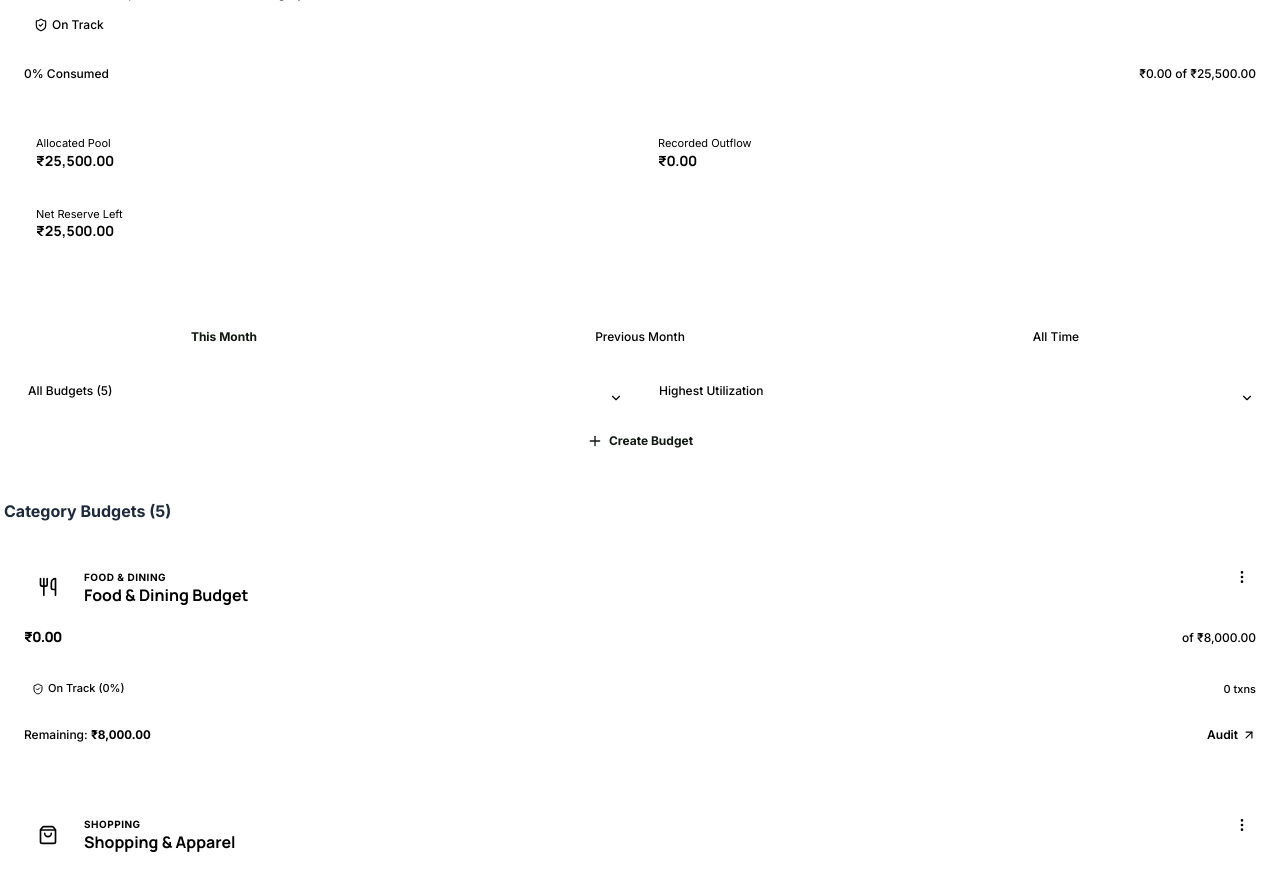
SPENDX Budgets Page & Telemetry › opens Create Budget modal dialog when CTA is clicked
(page scrolled)
Click the button "Create Budget" at (640, 441), box [14, 421, 1266, 461]
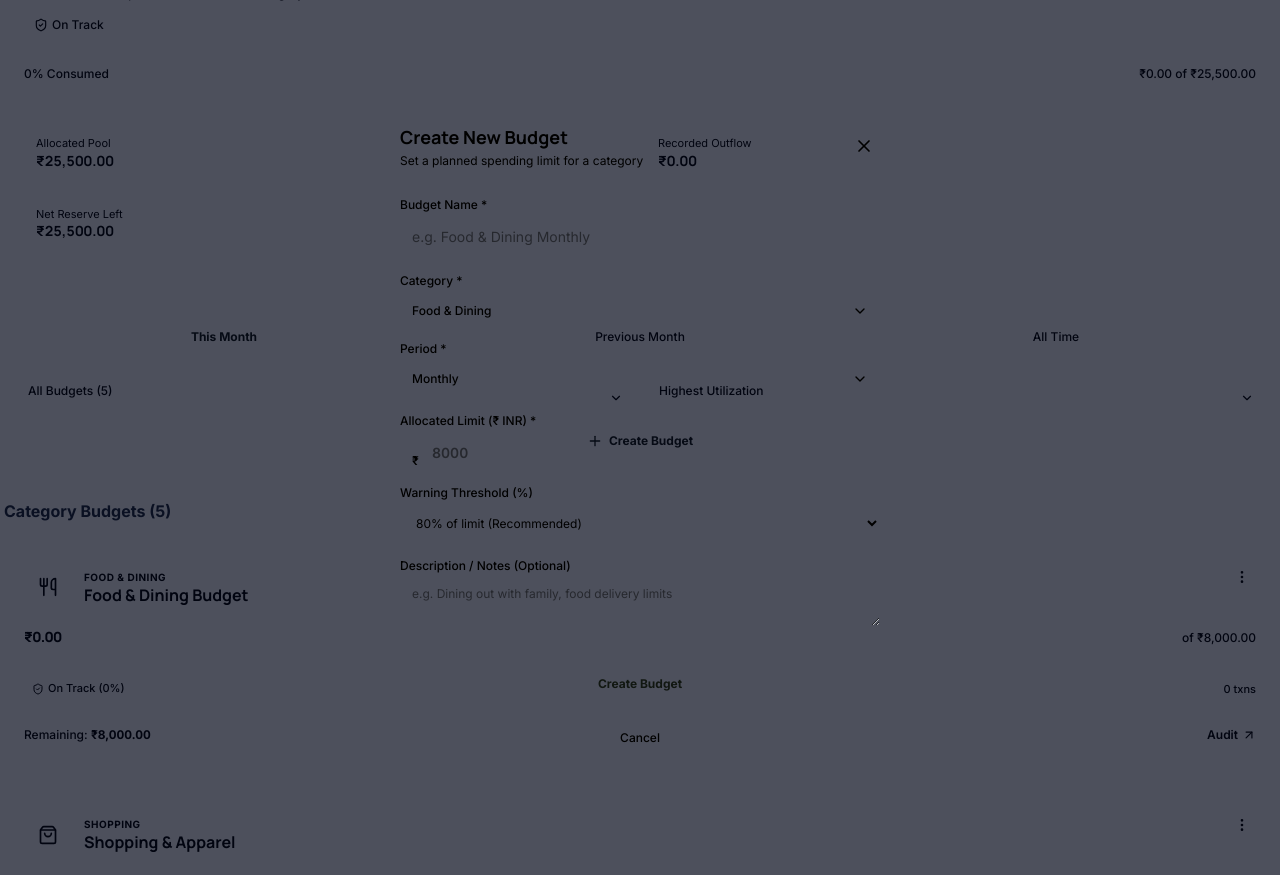
Expected: the heading "Create New Budget" is shown, [400, 124, 568, 148]
Expected: the field labelled "Budget Name *" is shown, [400, 216, 880, 256]
Expected: the number field labelled "Allocated Limit (₹ INR) *" is shown, [400, 432, 880, 472]
